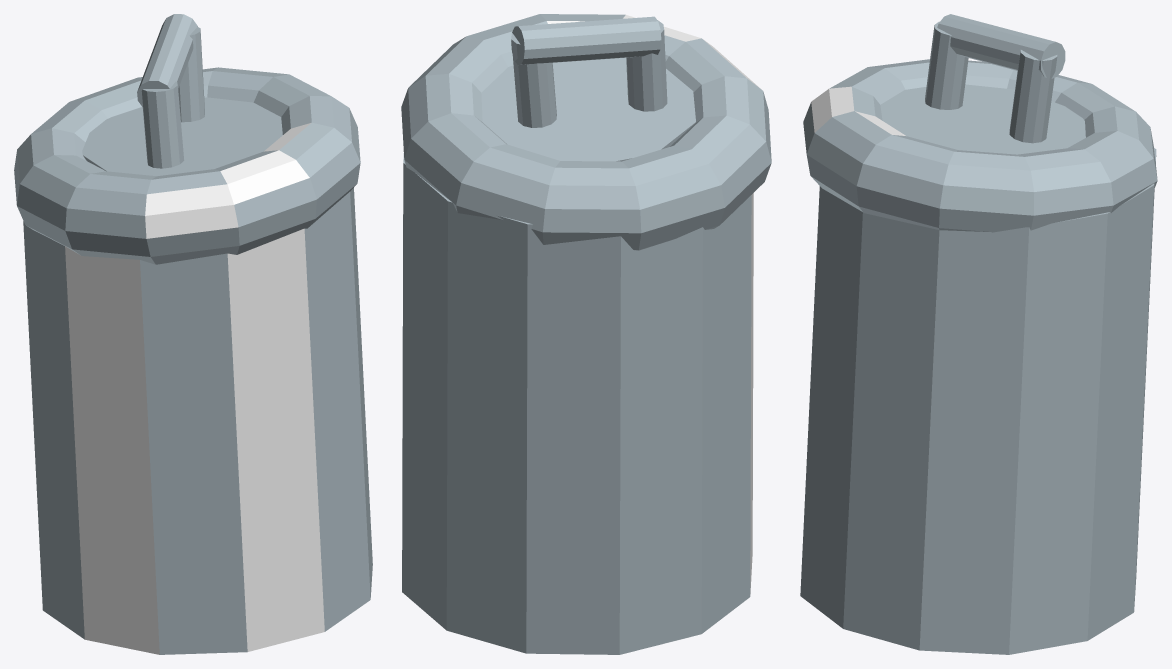
The model's file is trash.glb.
3 views of the same model, side by side, from view 1: azimuth 30°, elevation 25°; view 2: azimuth 150°, elevation 25°; view 3: azimuth 270°, elevation 25° (orthographic). The views are drawn at different scales.
Parts seen in each view (by area): view 1: group1919868581, group847495799, group1146805951, group1261009035, group866810855, group1265088135; view 2: group1919868581, group847495799, group1146805951, group866810855, group1265088135, group1261009035; view 3: group1919868581, group847495799, group1146805951, group866810855, group1265088135, group1261009035.
Part boxes in pixels (<box>): group1919868581: <box>23,188,372,654</box>; group847495799: <box>14,67,360,264</box>; group1146805951: <box>82,97,282,176</box>; group1261009035: <box>141,81,184,168</box>; group866810855: <box>137,14,197,107</box>; group1265088135: <box>178,27,204,122</box>; group1919868581: <box>402,153,753,654</box>; group847495799: <box>401,14,771,250</box>; group1146805951: <box>481,57,695,161</box>; group866810855: <box>511,16,661,65</box>; group1265088135: <box>511,33,556,127</box>; group1261009035: <box>626,20,667,111</box>; group1919868581: <box>800,148,1156,654</box>; group847495799: <box>803,59,1157,232</box>; group1146805951: <box>880,84,1085,154</box>; group866810855: <box>937,14,1065,78</box>; group1265088135: <box>1009,50,1057,143</box>; group1261009035: <box>925,21,968,109</box>.
Size of the model in its own units: 0.1884 by 0.3203 by 0.1859.
